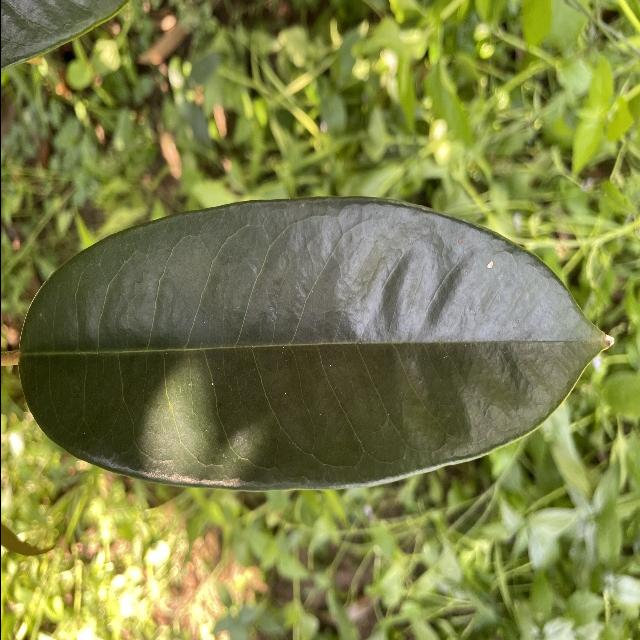No Disease: (5, 185, 617, 501)
